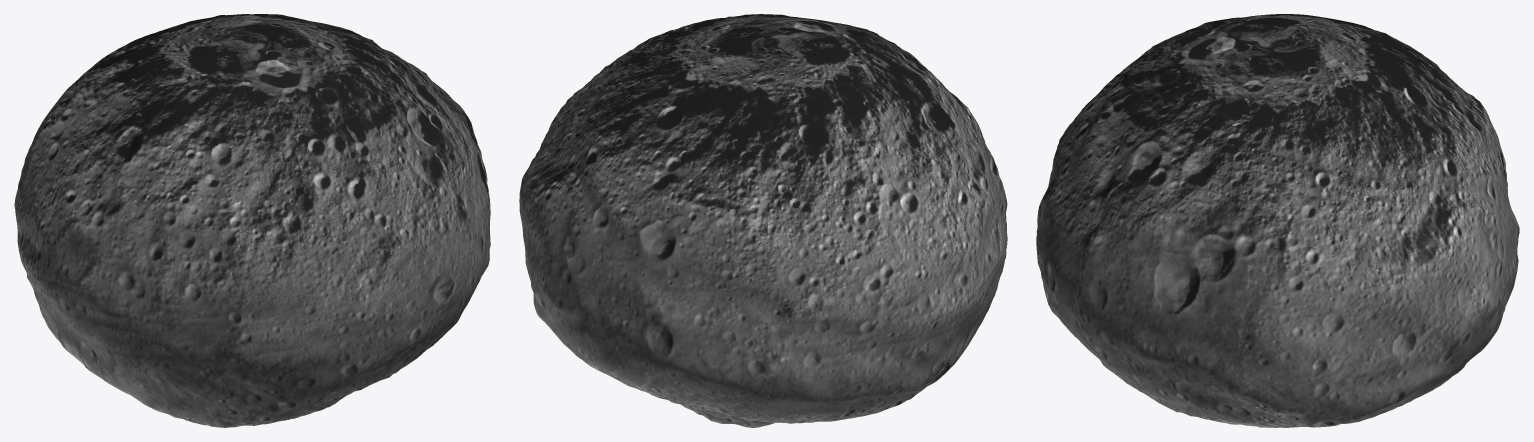
The model's file is 4_vesta.gltf.
The picture shows the model from 3 angles, left to right: view 1: azimuth 30°, elevation 25°; view 2: azimuth 150°, elevation 25°; view 3: azimuth 270°, elevation 25°; orthographic projection. The views are drawn at different scales.
Parts seen in each view (by area): view 1: Vesta; view 2: Vesta; view 3: Vesta.
Part boxes in pixels (x1,y1,x2,y2): Vesta: (14, 14, 490, 427); Vesta: (519, 14, 1007, 427); Vesta: (1036, 14, 1519, 427).
Size of the model in its own units: 573280 by 462863 by 556228.
Materials: 1 (1 with a texture image).
